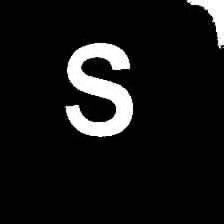LTR_S: (60, 38, 136, 138)
